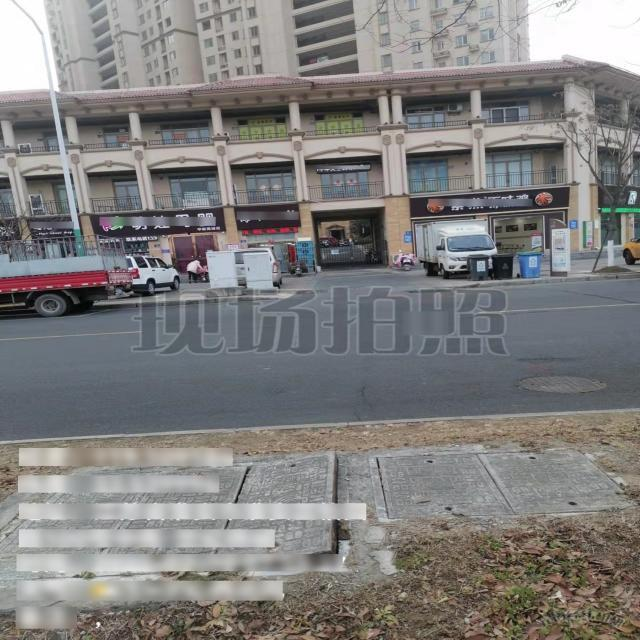Faulty: (4, 453, 346, 588)
Good: (369, 444, 638, 528)
